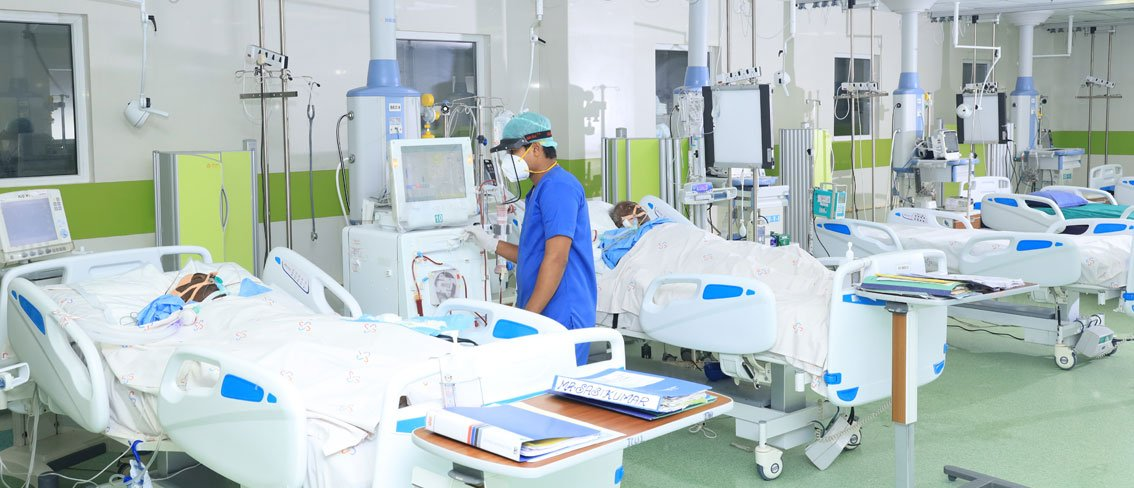Doctor: (493, 113, 598, 277)
monitoring system: (372, 134, 476, 291)
patient: (162, 266, 238, 351), (608, 194, 679, 271)
